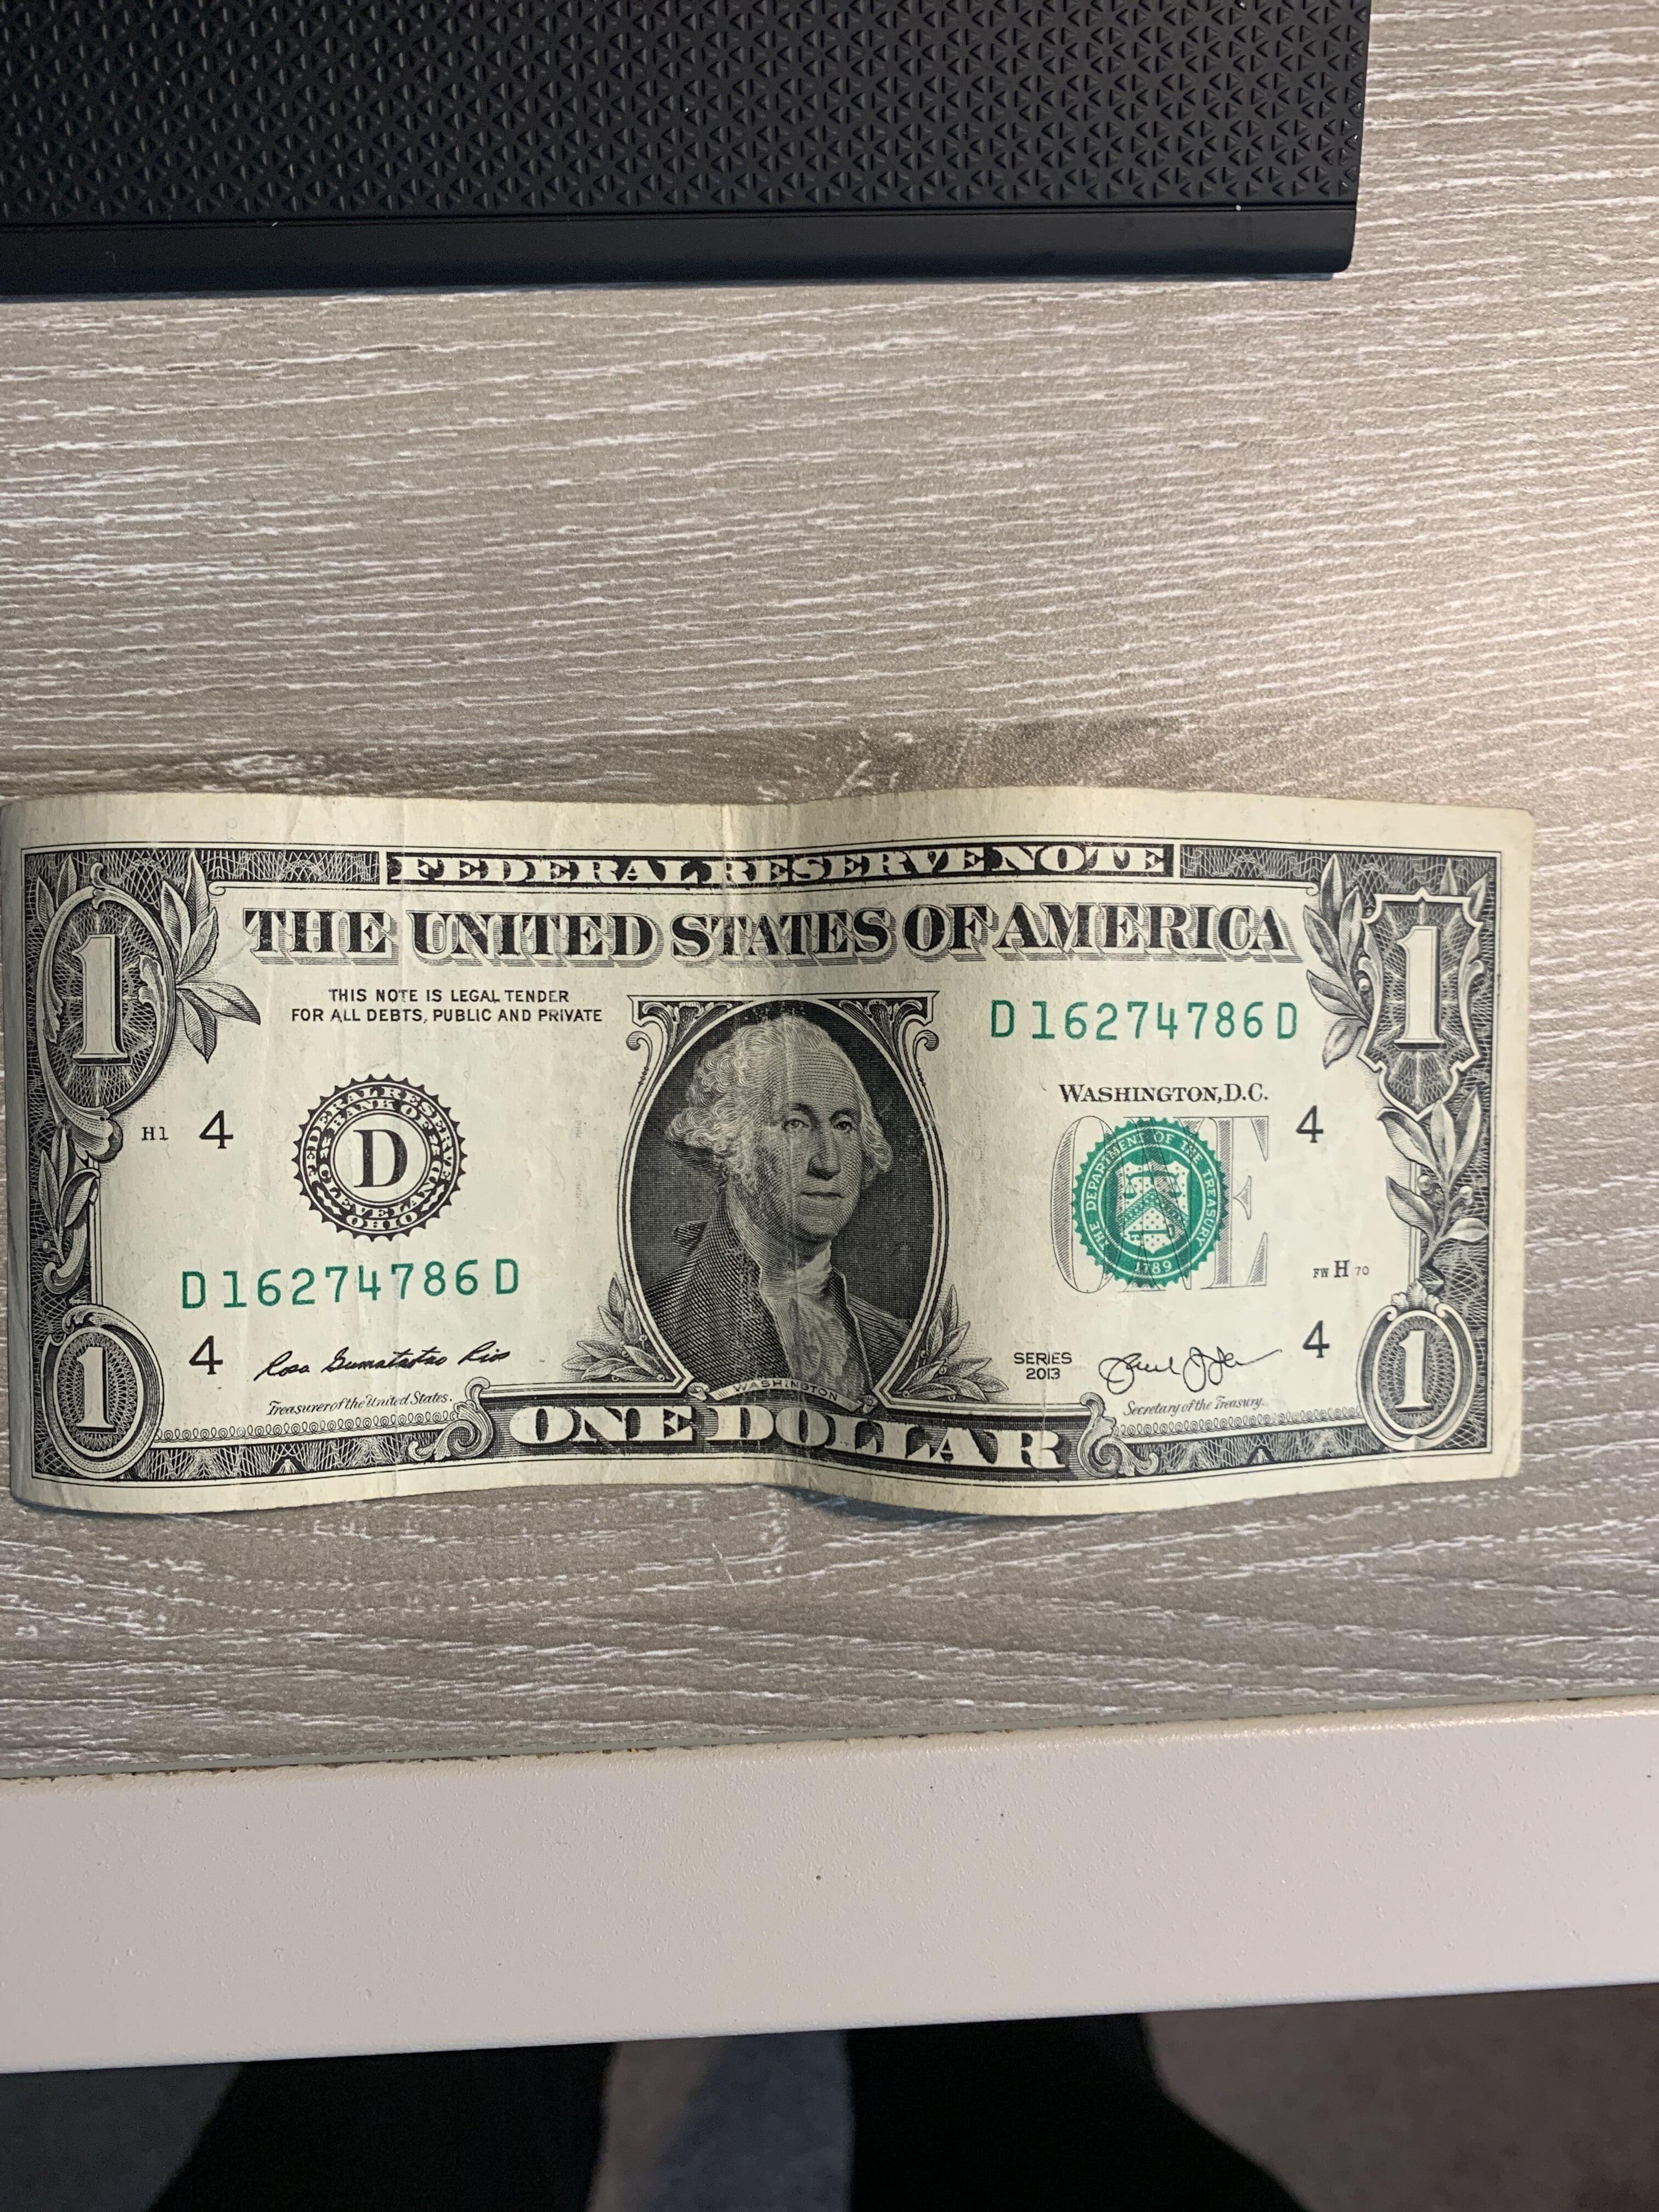OneBill: (2, 737, 1574, 1547)
